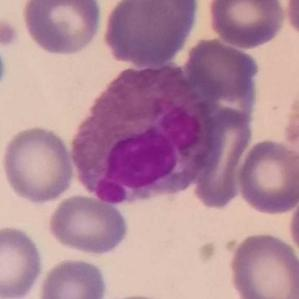Eosinophil: (66, 61, 215, 201)
Platelets: (0, 16, 20, 49)
RBC: (100, 0, 202, 69), (188, 112, 255, 210), (0, 123, 77, 205), (46, 192, 130, 257), (234, 136, 299, 217), (182, 36, 262, 101), (225, 230, 298, 299), (19, 0, 104, 58), (205, 0, 287, 50), (0, 223, 45, 299), (36, 255, 110, 299), (281, 79, 299, 169), (286, 186, 299, 266), (283, 0, 299, 41)
